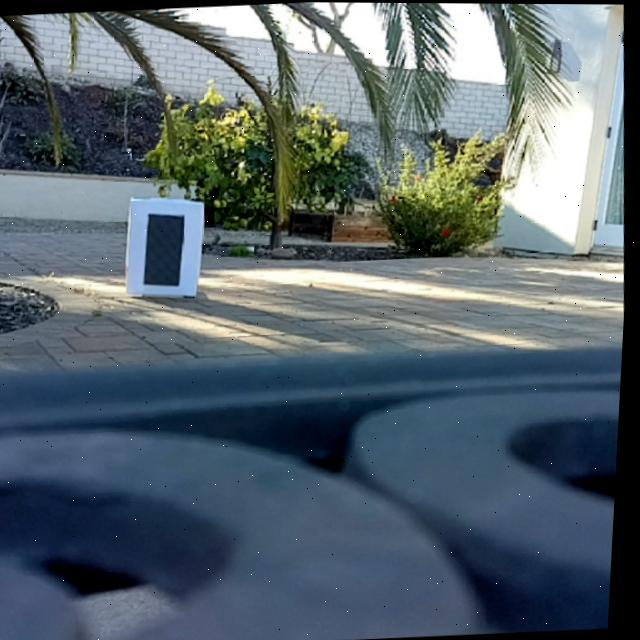led: (143, 211, 189, 288)
